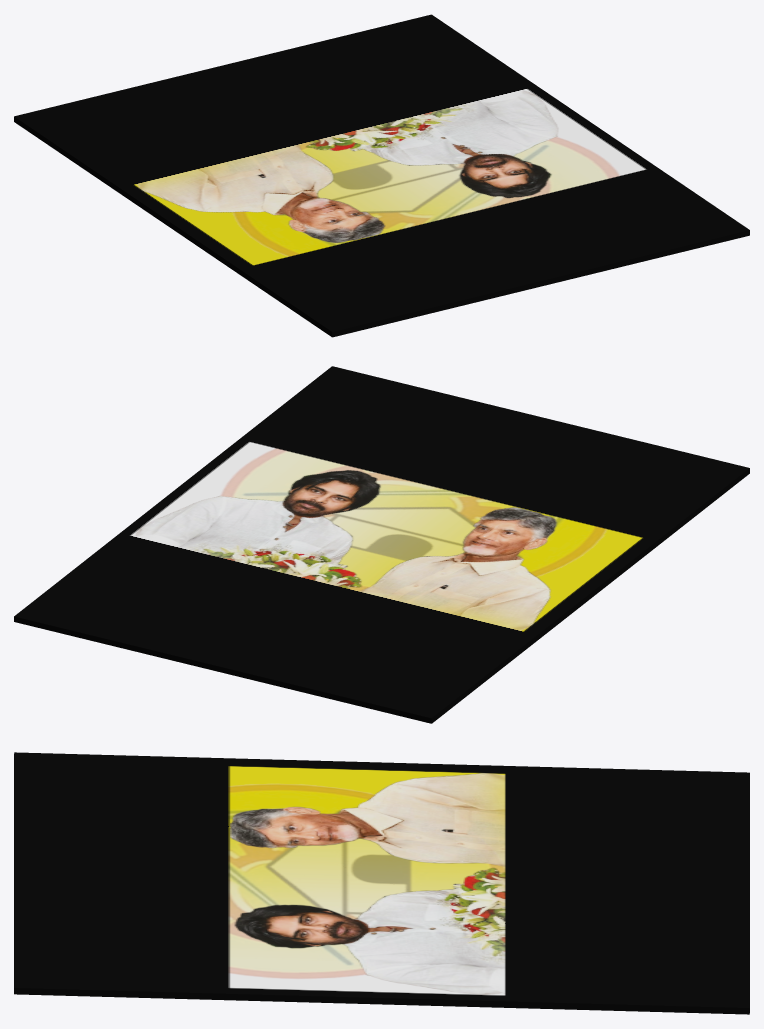
The picture shows the model from 3 angles, top to bottom: view 1: azimuth 30°, elevation 25°; view 2: azimuth 150°, elevation 25°; view 3: azimuth 270°, elevation 25°; orthographic projection. The views are drawn at different scales.
Visible parts, largest first — view 1: Cube.005; view 2: Cube.005; view 3: Cube.005.
Part boxes in pixels (x1,y1,x2,y2): Cube.005: (14,14,749,337); Cube.005: (14,366,749,723); Cube.005: (14,752,749,1014).
Bounding box in the file's own units: 4.54 × 0.2382 × 5.99.
Materials: 1 (1 with a texture image).
